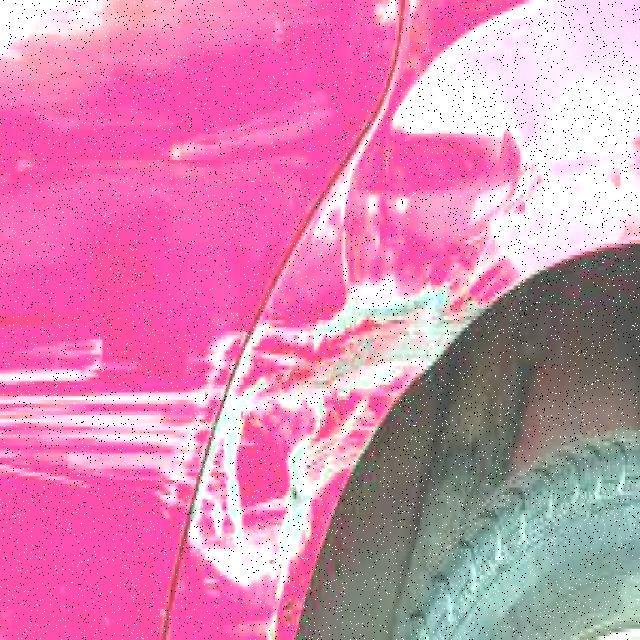car damage: (0, 267, 478, 594), (455, 127, 640, 303), (154, 78, 339, 181)
